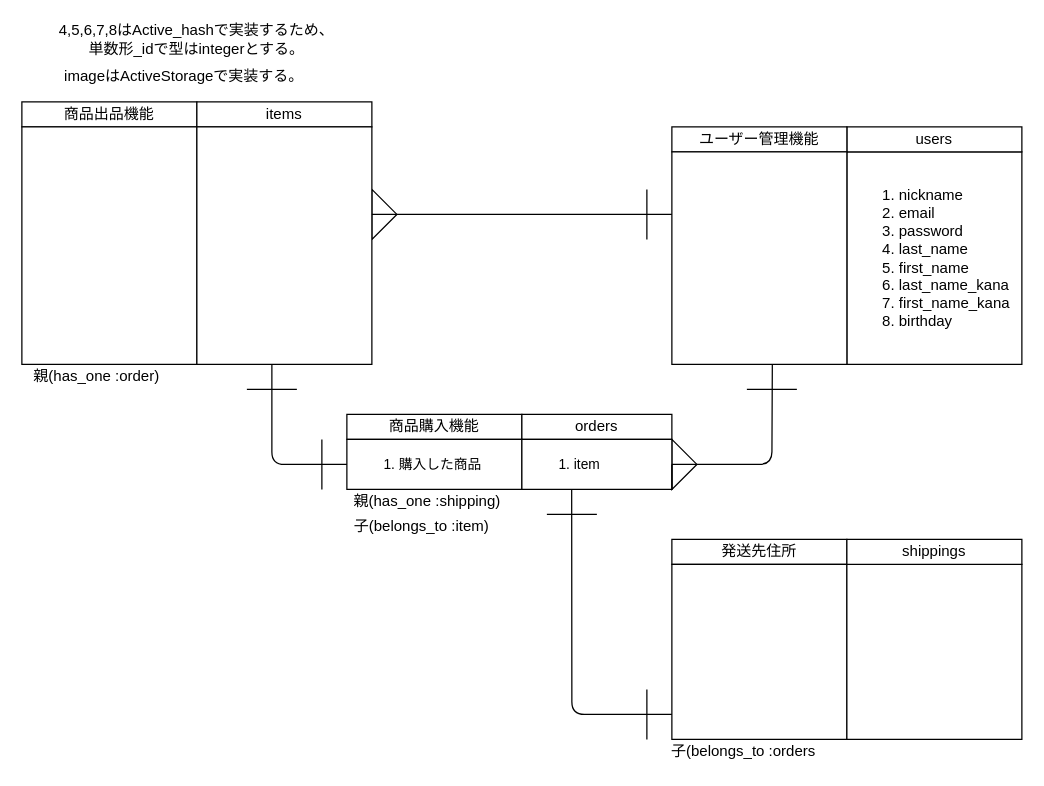
Some shapes in this 1044 by 786 pixel diagram are drawn without their labels. Each missing label, with the box of its shape:
postal_code prefecture_id municpality address building phone_number order: (846, 563, 1022, 739)
title text category_id state_id fee_id prefecture_id days_ship_id price user: (196, 126, 372, 364)
ニックネーム メールアドレス パスワード 名字（全角） 名前（全角） 名字（カナ） 名前（カナ） 生年月日: (671, 151, 847, 364)
商品名 商品説明 商品カテゴリー 商品状態 配送料の負担 発送元の地域 発送までの日数 販売価格 誰の商品: (21, 126, 197, 364)
郵便番号 都道府県 市区町村 番地 建物名 電話番号 発送する商品: (671, 563, 847, 739)
